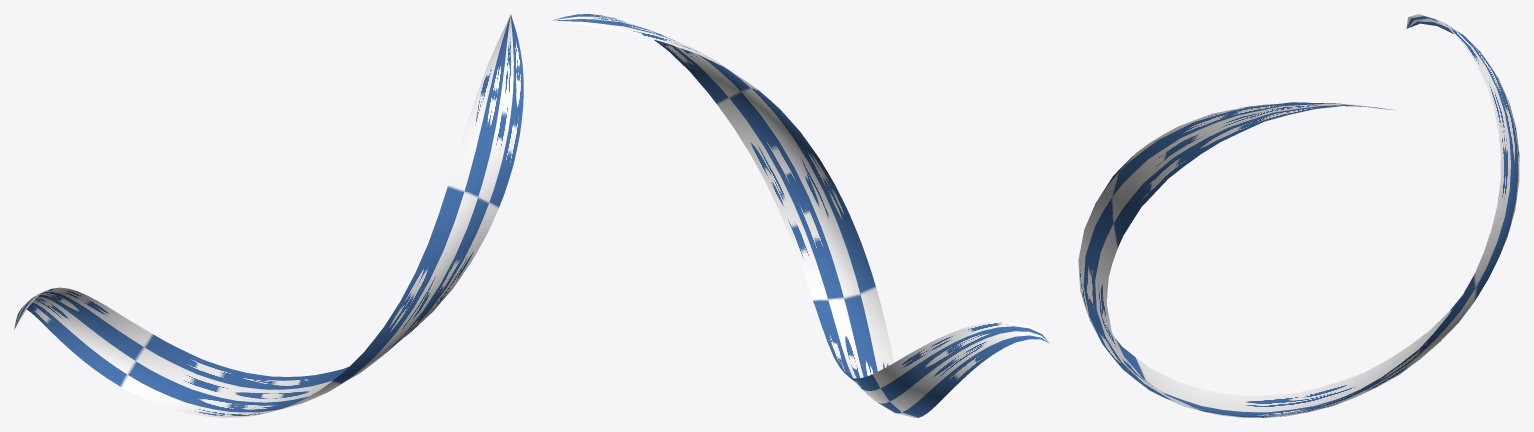
File: WindSpiral.fbx
3 views of the same model, side by side, from view 1: azimuth 30°, elevation 25°; view 2: azimuth 150°, elevation 25°; view 3: azimuth 270°, elevation 25° (orthographic). The views are drawn at different scales.
Visible parts, largest first — view 1: SM_e_Useful_WindSpiral001; view 2: SM_e_Useful_WindSpiral001; view 3: SM_e_Useful_WindSpiral001.
Part boxes in pixels (x1,y1,x2,y2): SM_e_Useful_WindSpiral001: [14, 14, 523, 417]; SM_e_Useful_WindSpiral001: [552, 14, 1049, 417]; SM_e_Useful_WindSpiral001: [1078, 14, 1519, 417].
Size of the model in its own units: 178 by 106 by 73.89.
